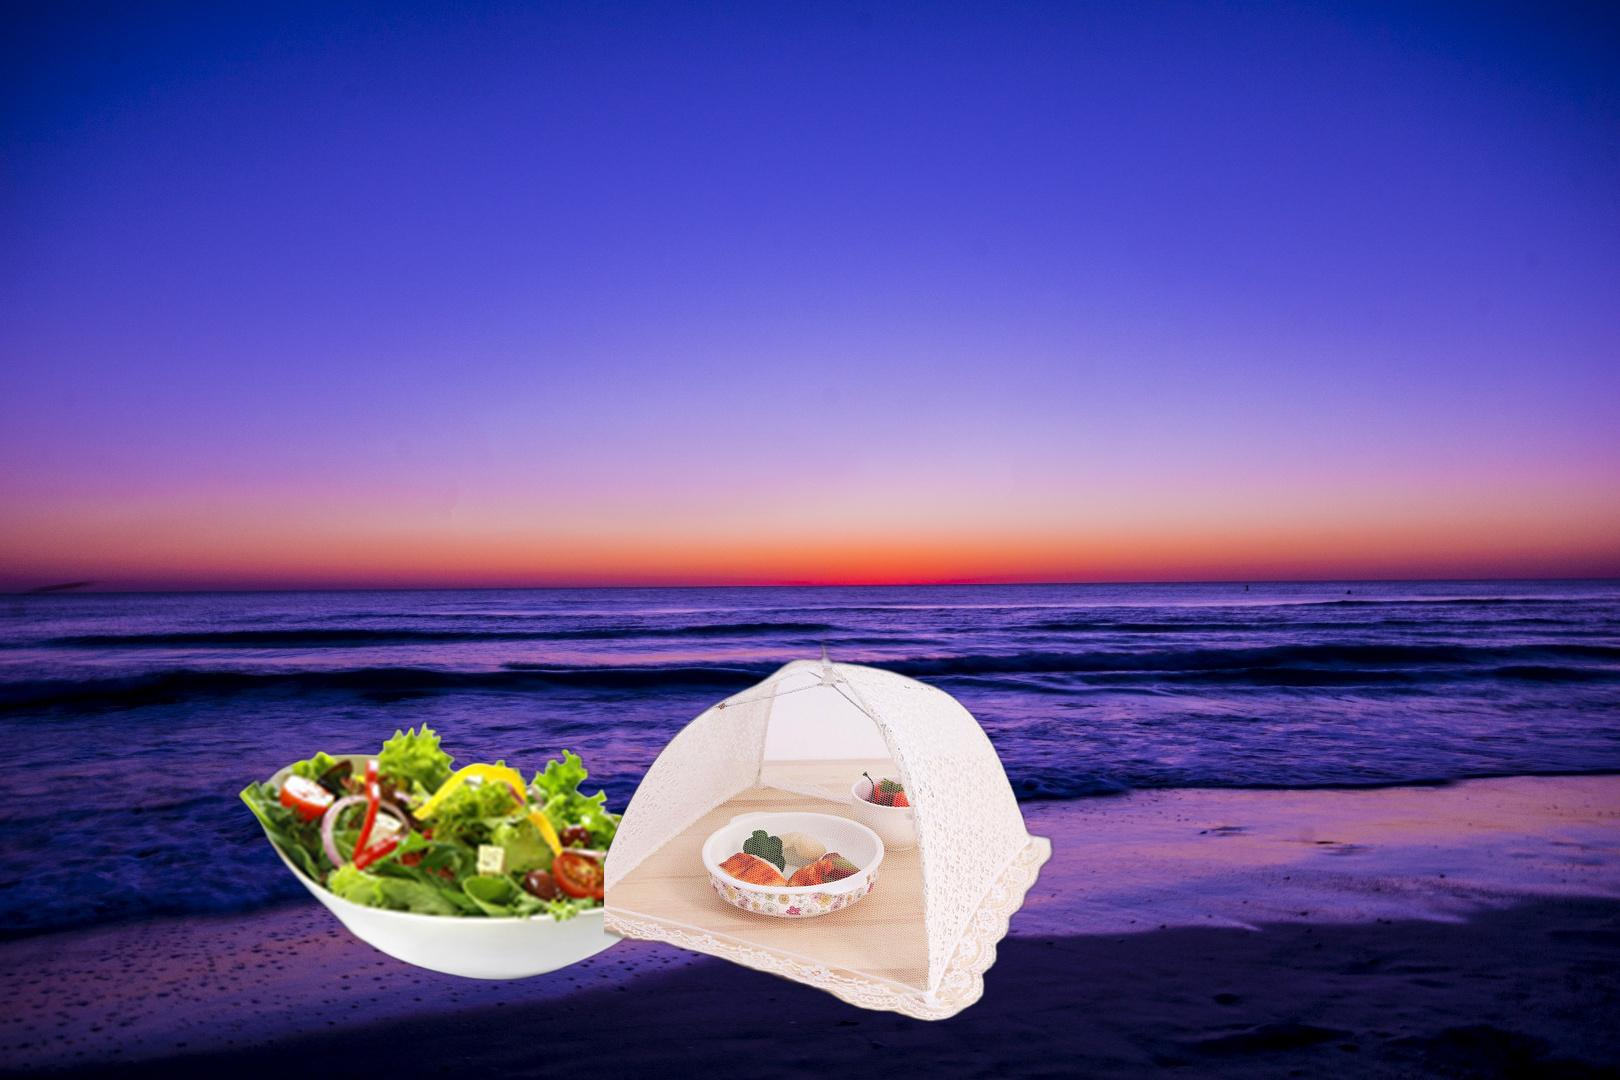biological: (604, 620, 1053, 1053), (234, 718, 703, 984)
